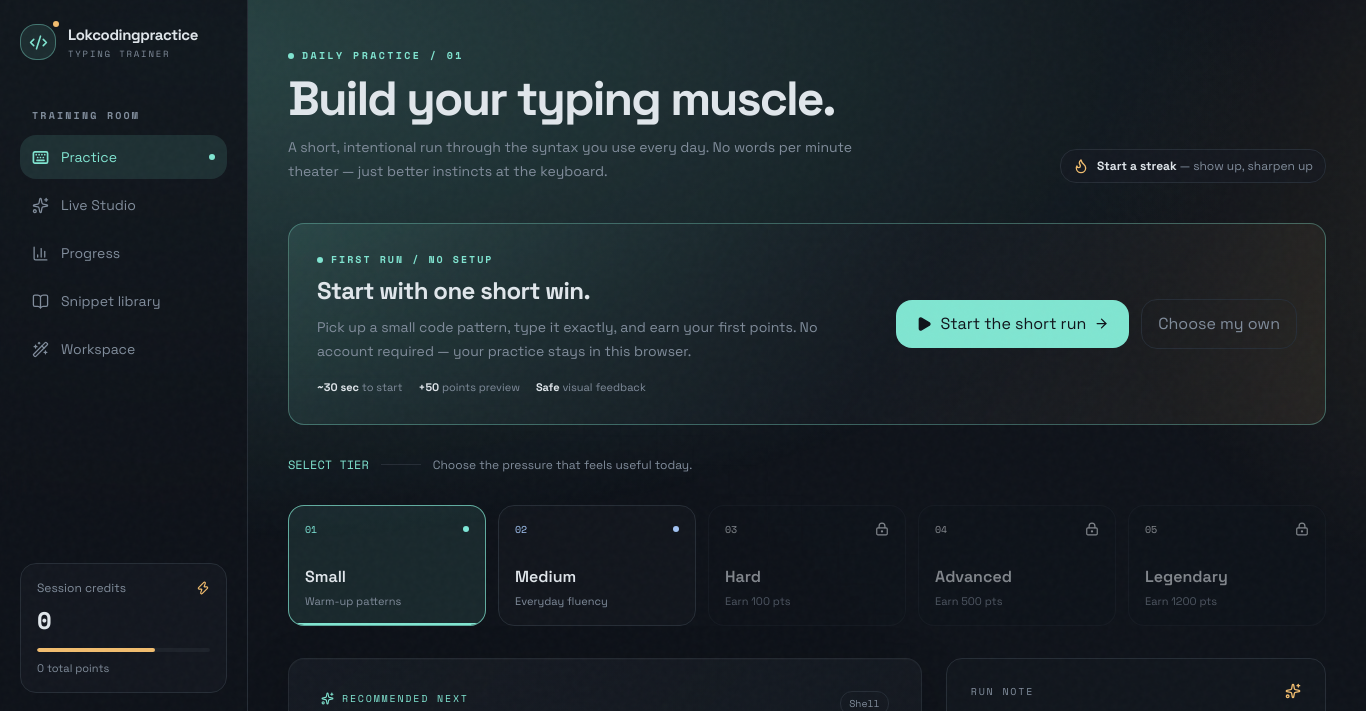
Test: typing drill regressions › orients a first-time learner and remembers the choice locally
Expected: the element with test id "panel-first-visit" is shown, [288,223,1326,424]
Click the button with test id "button-onboarding-start" at {"x": 1013, "y": 324}, box [896,300,1129,348]
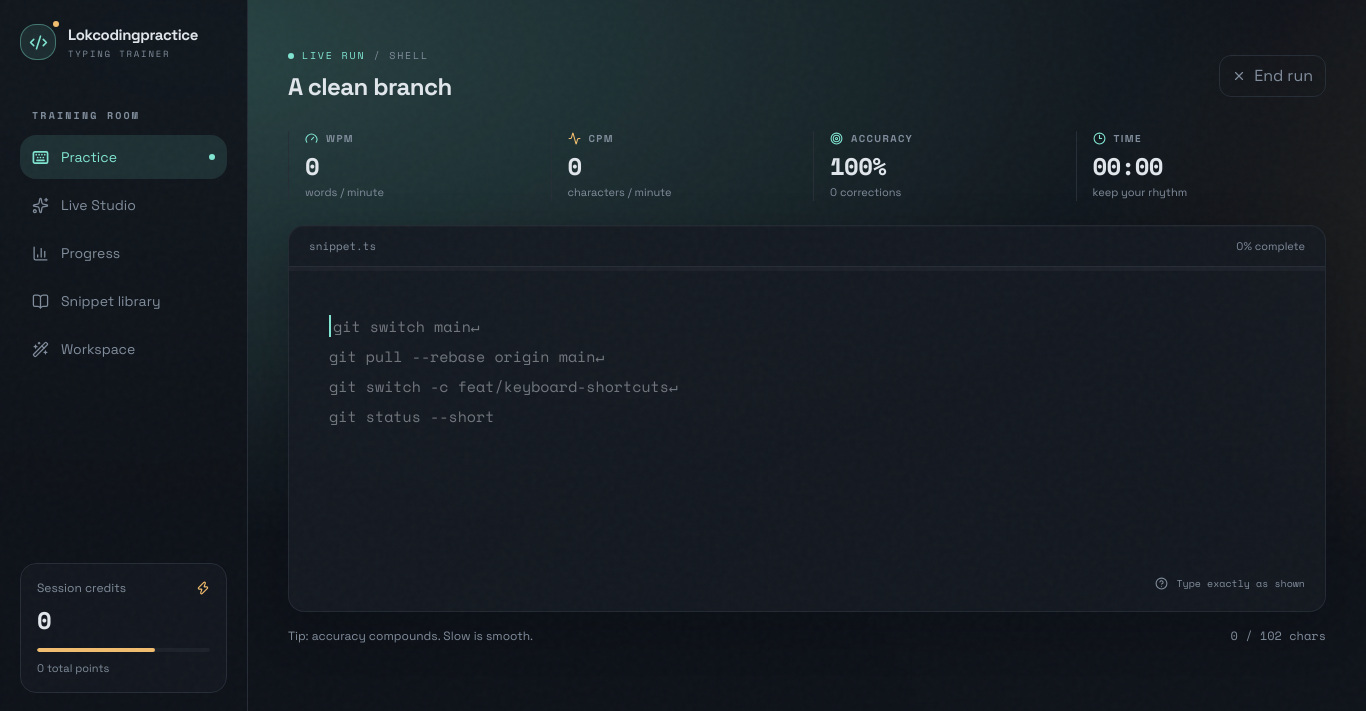
Expected: the element with test id "panel-first-visit" is gone
Expected: the element with test id "input-code-capture" is shown, [289,271,1325,611]
